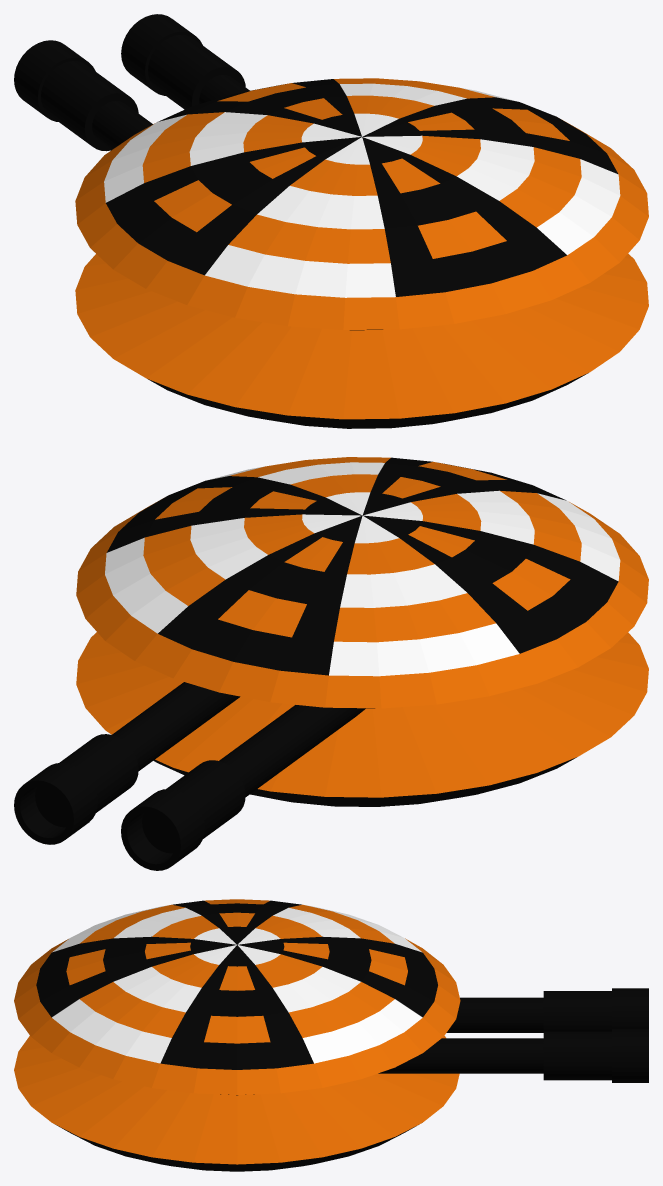
Rendered from Turret.fbx.
The picture shows the model from 3 angles, top to bottom: view 1: azimuth 30°, elevation 25°; view 2: azimuth 150°, elevation 25°; view 3: azimuth 270°, elevation 25°; orthographic projection. The views are drawn at different scales.
Parts seen in each view (by area): view 1: Sphere; view 2: Sphere; view 3: Sphere.
Part boxes in pixels (x1=…): Sphere: x1=14, y1=14, x2=648, y2=428; Sphere: x1=14, y1=457, x2=648, y2=870; Sphere: x1=14, y1=899, x2=648, y2=1171.
Size of the model in its own units: 185 by 82.77 by 263.
